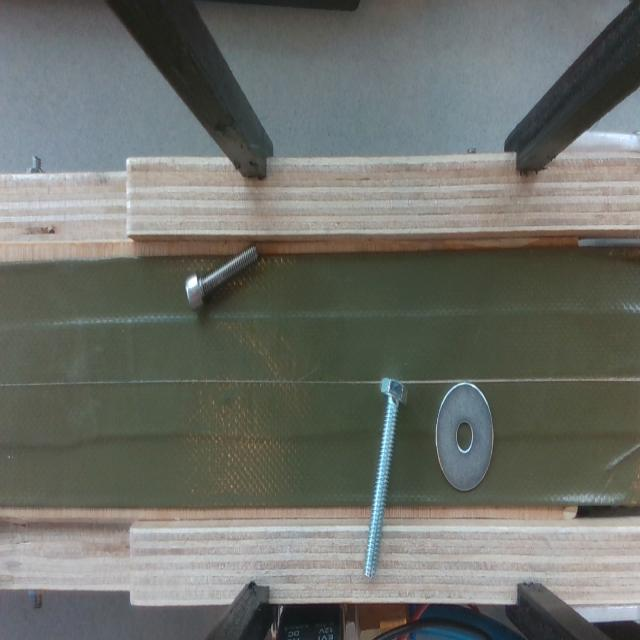Bolt: (364, 378, 408, 577), (185, 245, 257, 309)
washer: (435, 383, 494, 490)
